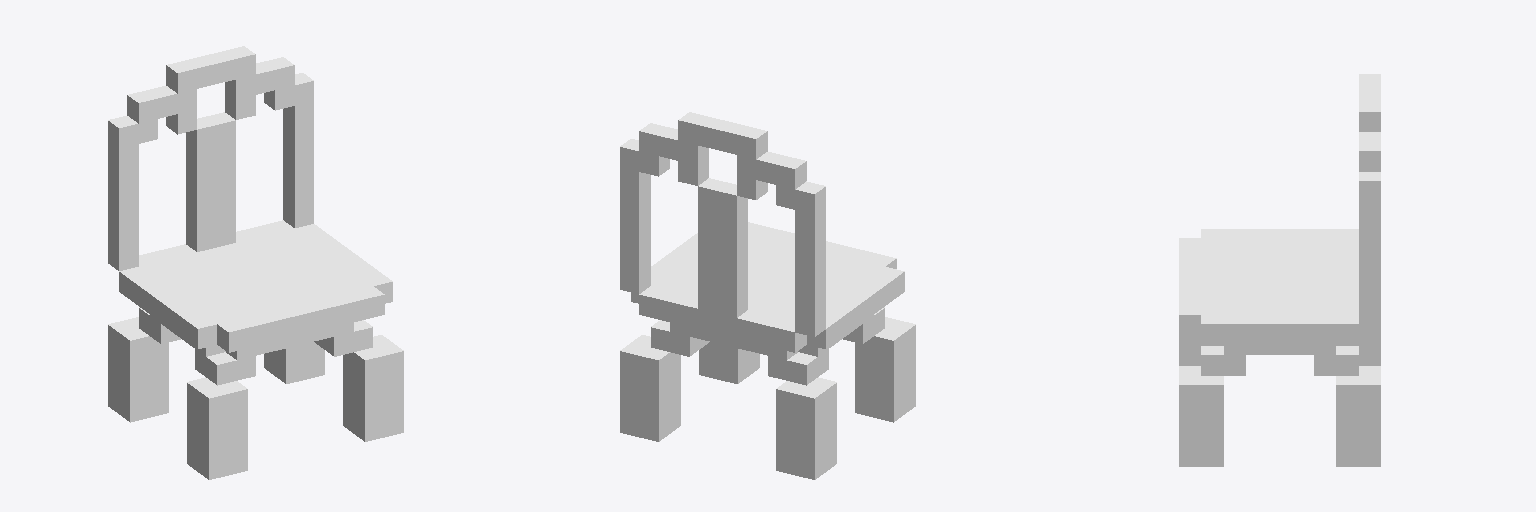
Rendered from chair_3.obj.
The picture shows the model from 3 angles: view 1: azimuth 30°, elevation 25°; view 2: azimuth 150°, elevation 25°; view 3: azimuth 270°, elevation 25°; orthographic projection.
Visible parts, largest first — view 1: object 1; view 2: object 1; view 3: object 1.
Part boxes in pixels (left/top/right/bottom): object 1: left=108, top=46, right=403, bottom=479; object 1: left=620, top=112, right=915, bottom=479; object 1: left=1179, top=74, right=1380, bottom=466.
Size of the model in its own units: 1 by 1.6 by 0.9.